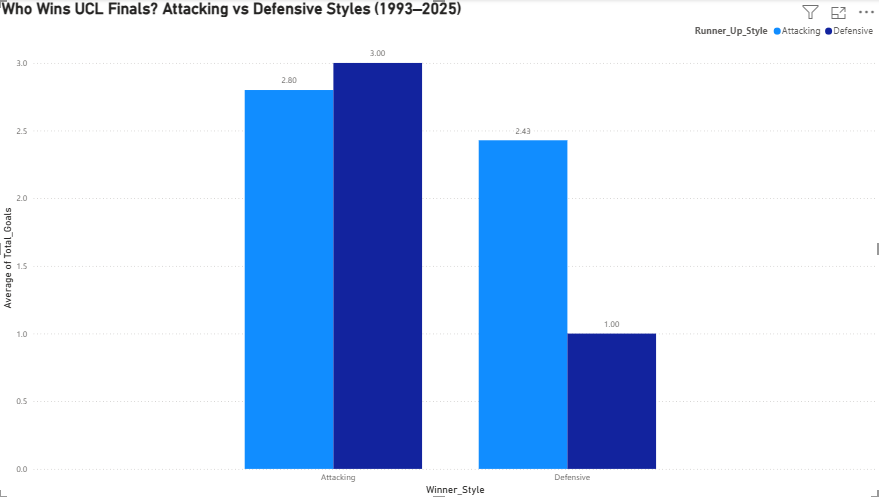

The dashboard page shown, as its layout file describes it:
{"tool":"powerbi","page":{"name":"Page 1","canvas":[1280,720],"ordinal":0},"visuals":[{"type":"clusteredColumnChart","title":"Who Wins UCL Finals? Attacking vs Defensive Styles (1993–2025)","fields":{"Category":["UCL_Finals_Analysis.Winner_Style"],"Y":["Avg(UCL_Finals_Analysis.Total_Goals)"],"Series":["UCL_Finals_Analysis.Runner_Up_Style"]},"box":[10.1,0,1270.1,720],"z":0}]}

Visuals, with their boxes in screenshot pixels (x1, y1, x2, y2), scaled from the page's 1280x720 canvas onto the 879x497 screenshot:
"Who Wins UCL Finals? Attacking vs Defensive Styles (1993–2025)" clusteredColumnChart: [7,0,878,496]
